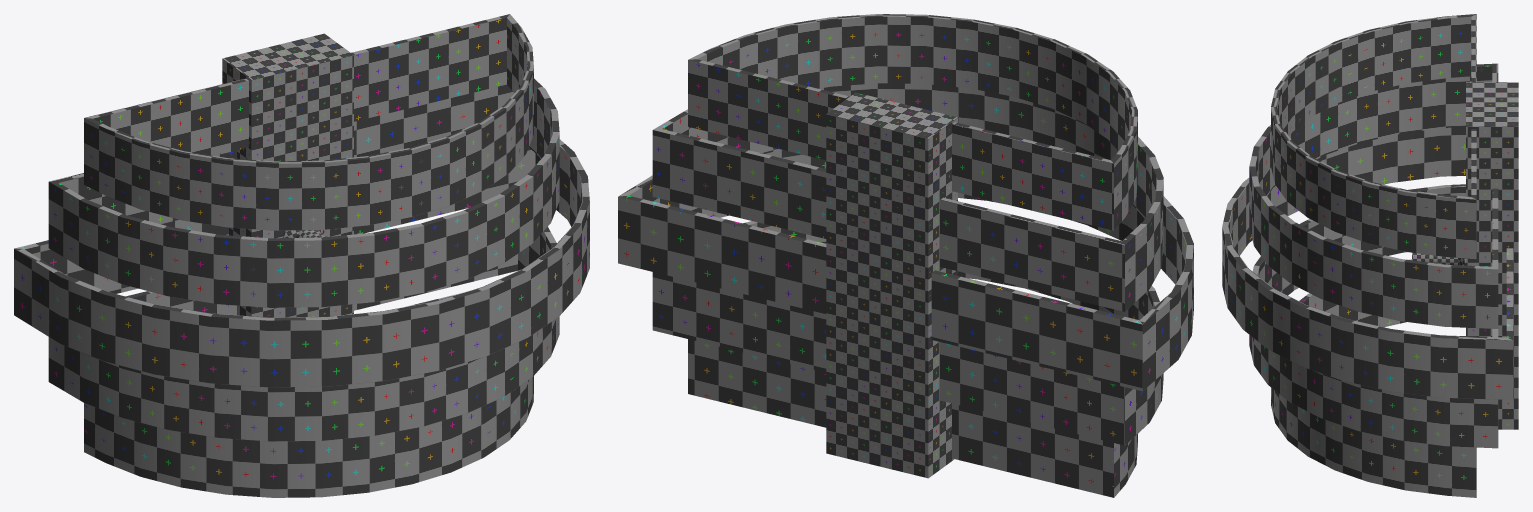
Rendered from half_circle_wall_lamp.glb.
3 views of the same model, side by side, from view 1: azimuth 30°, elevation 25°; view 2: azimuth 150°, elevation 25°; view 3: azimuth 270°, elevation 25° (orthographic). The views are drawn at different scales.
Parts seen in each view (by area): view 1: Housing.001, Housing.003, Housing.002, Housing.004, Housing.005, Housing; view 2: Housing.001, Housing, Housing.002, Housing.003, Housing.004, Housing.005; view 3: Housing.003, Housing.001, Housing.002, Housing.004, Housing.005, Housing, Light.
Part boxes in pixels (x1,y1,x2,y2): Housing.001: (84,14,533,230); Housing.003: (14,139,589,387); Housing.002: (48,78,559,307); Housing.004: (48,227,559,441); Housing.005: (84,293,533,497); Housing: (222,33,353,317); Housing.001: (688,14,1137,230); Housing: (826,92,957,478); Housing.002: (652,83,1163,311); Housing.003: (618,150,1193,391); Housing.004: (652,221,1163,445); Housing.005: (688,339,1137,497); Housing.003: (1222,127,1513,399); Housing.001: (1271,14,1476,259); Housing.002: (1249,63,1498,328); Housing.004: (1249,184,1498,448); Housing.005: (1271,259,1476,497); Housing: (1466,82,1518,429); Light: (1412,252,1465,265).
Bounding box in the file's own units: 0.4108 × 0.254 × 0.2251.
1 material, 1 textured.
